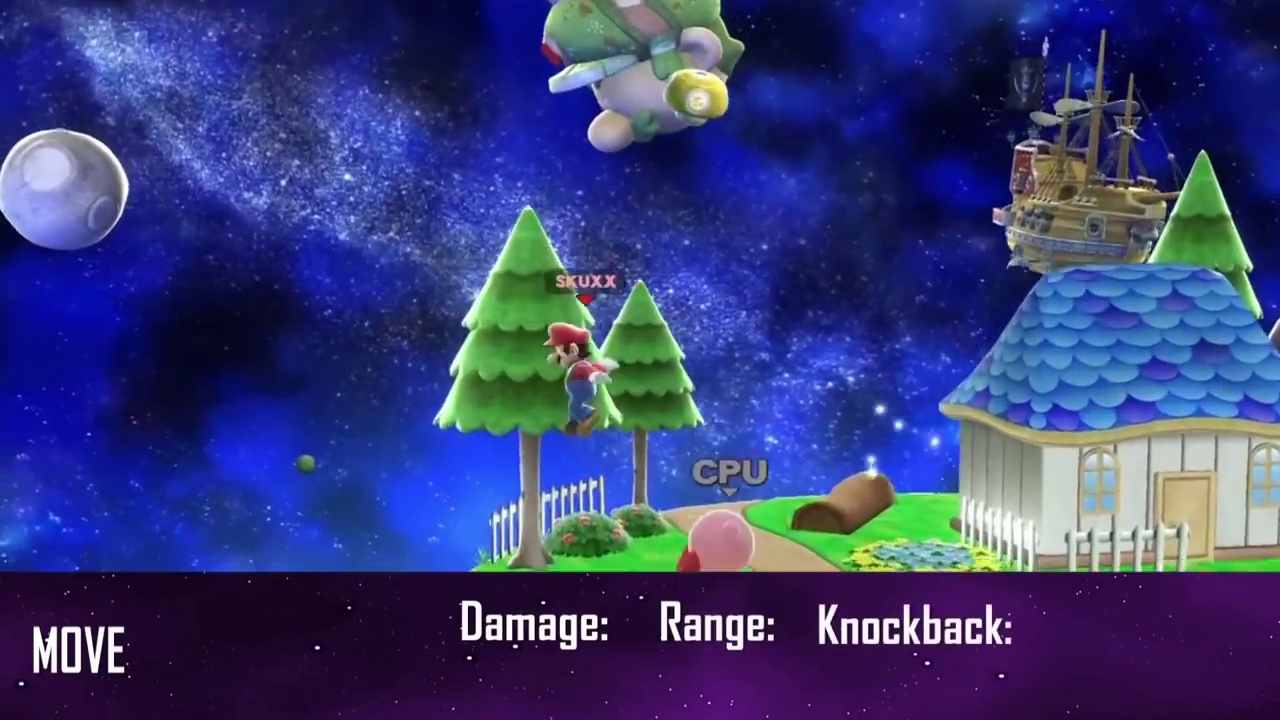Mario: (542, 321, 618, 434)
